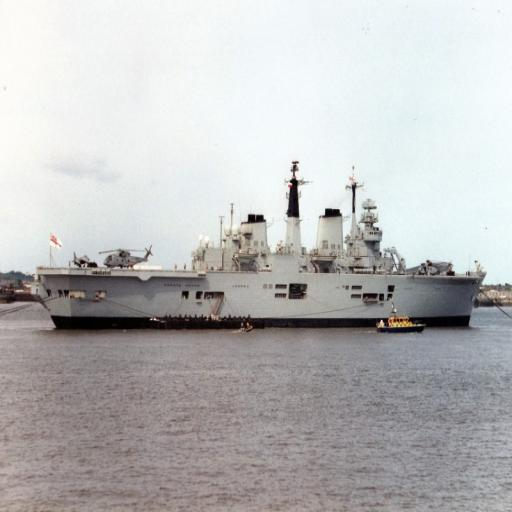Portanaves: (26, 150, 488, 333)
